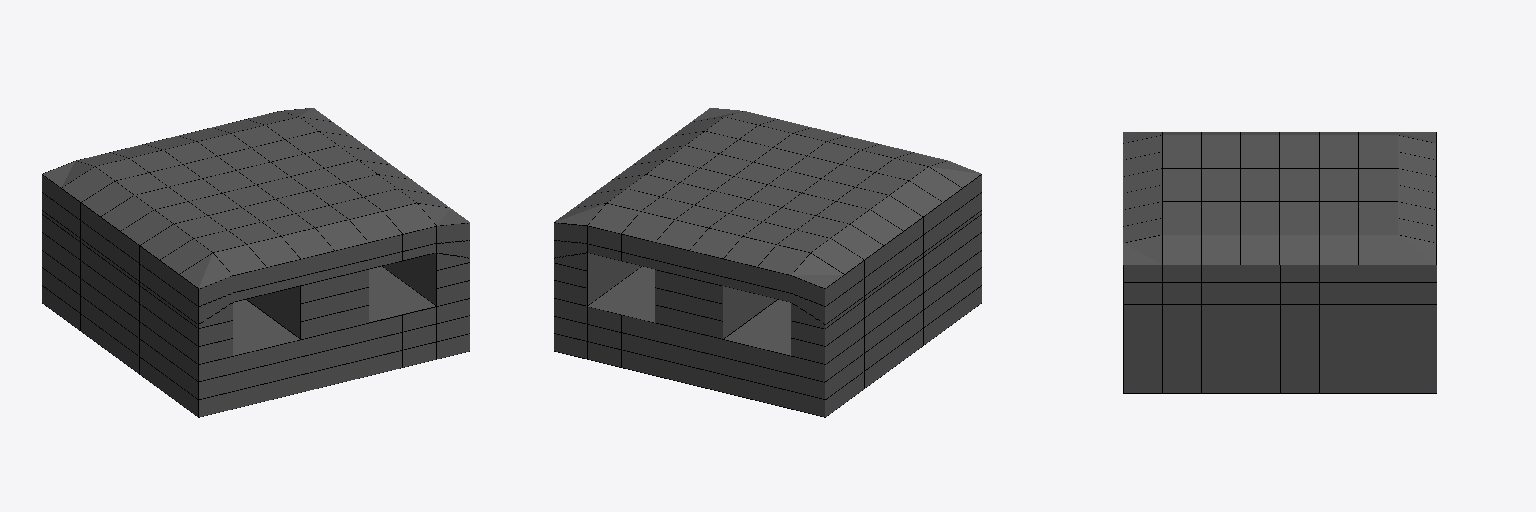
3 views of the same model, side by side, from view 1: azimuth 30°, elevation 25°; view 2: azimuth 150°, elevation 25°; view 3: azimuth 270°, elevation 25° (orthographic).
Parts seen in each view (by area): view 1: crane_top_Cube; view 2: crane_top_Cube; view 3: crane_top_Cube.
Part boxes in pixels (x1,y1,x2,y2): crane_top_Cube: (42,108,469,417); crane_top_Cube: (554,108,981,417); crane_top_Cube: (1123,132,1436,393).
Size of the model in its own units: 2 by 1 by 2.
Materials: 1 (1 with a texture image).